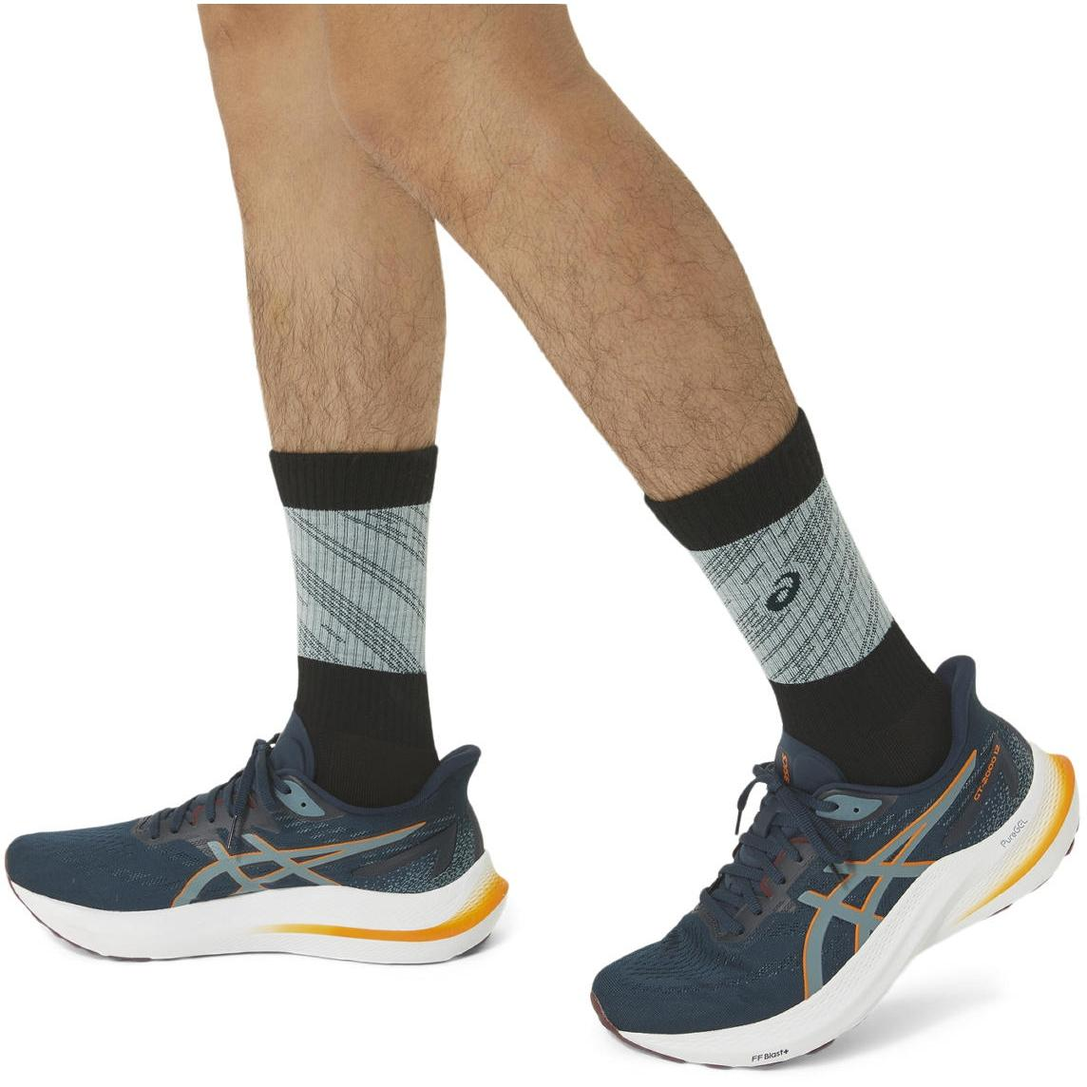asics logo: (781, 732, 1007, 1009), (162, 809, 458, 914)
sock logo: (648, 417, 955, 784), (274, 458, 459, 751)
